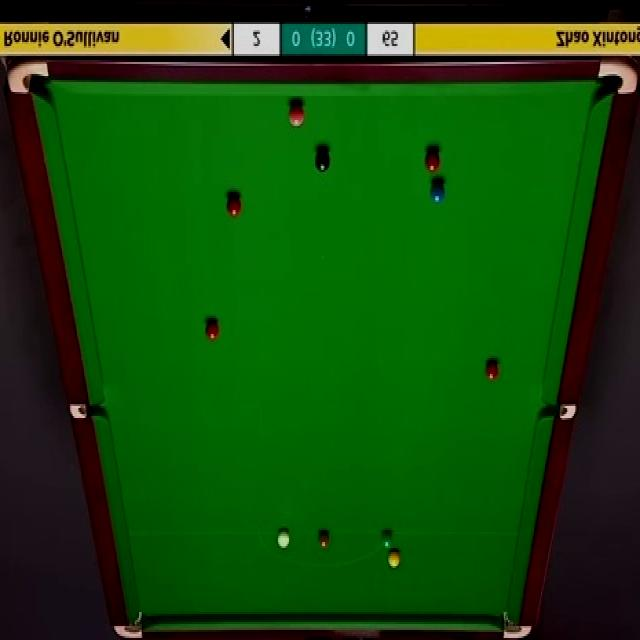pocket: (597, 56, 640, 98), (7, 60, 49, 95), (112, 606, 145, 640), (499, 608, 530, 640), (539, 400, 576, 422), (67, 405, 105, 420)
